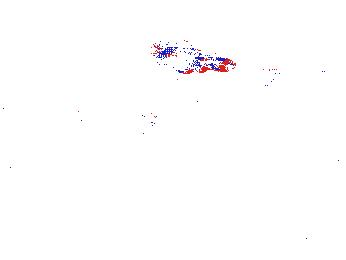X-ray fish: (119, 96, 160, 137), (70, 93, 104, 129), (148, 136, 167, 170)
red belly glassfish: (321, 125, 346, 141), (329, 150, 346, 163)
redtail glassfish: (155, 40, 238, 79), (254, 57, 329, 88)
